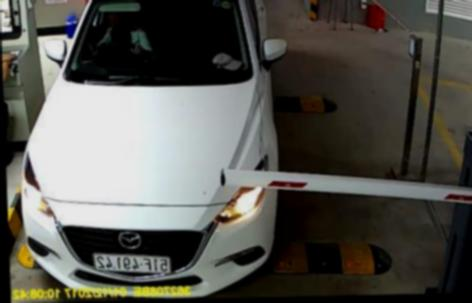License_Plate: (92, 250, 176, 276)
